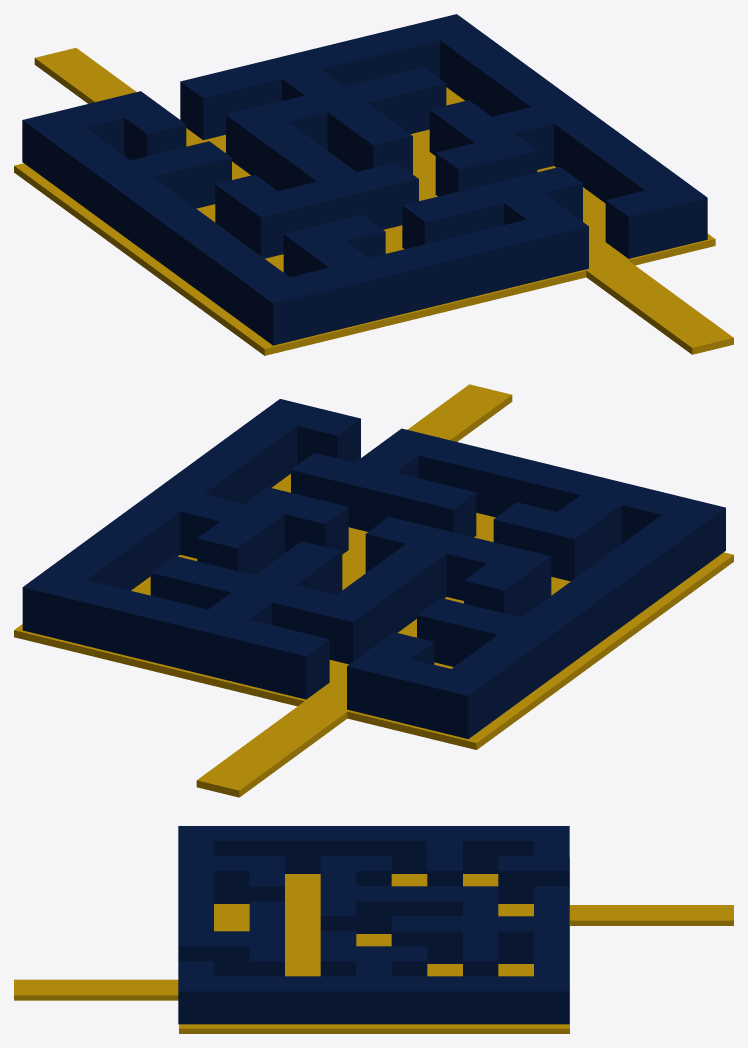
Rendered from Лабиринт 1.fbx.
The picture shows the model from 3 angles, top to bottom: view 1: azimuth 30°, elevation 25°; view 2: azimuth 150°, elevation 25°; view 3: azimuth 270°, elevation 25°; orthographic projection. The views are drawn at different scales.
Parts seen in each view (by area): view 1: Plane, Plane.001; view 2: Plane, Plane.001; view 3: Plane, Plane.001.
Boxes of the visible parts, x1,y1,x2,y2 form: Plane: (22, 14, 707, 345); Plane.001: (14, 48, 733, 355); Plane: (22, 399, 725, 738); Plane.001: (14, 384, 733, 797); Plane: (178, 826, 569, 1024); Plane.001: (14, 857, 733, 1033).
Bounding box in the file's own units: 2283 × 245 × 4049.
